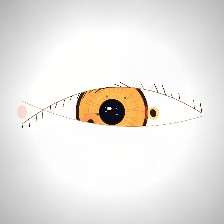foreign_body_visible: (68, 106, 113, 142)
